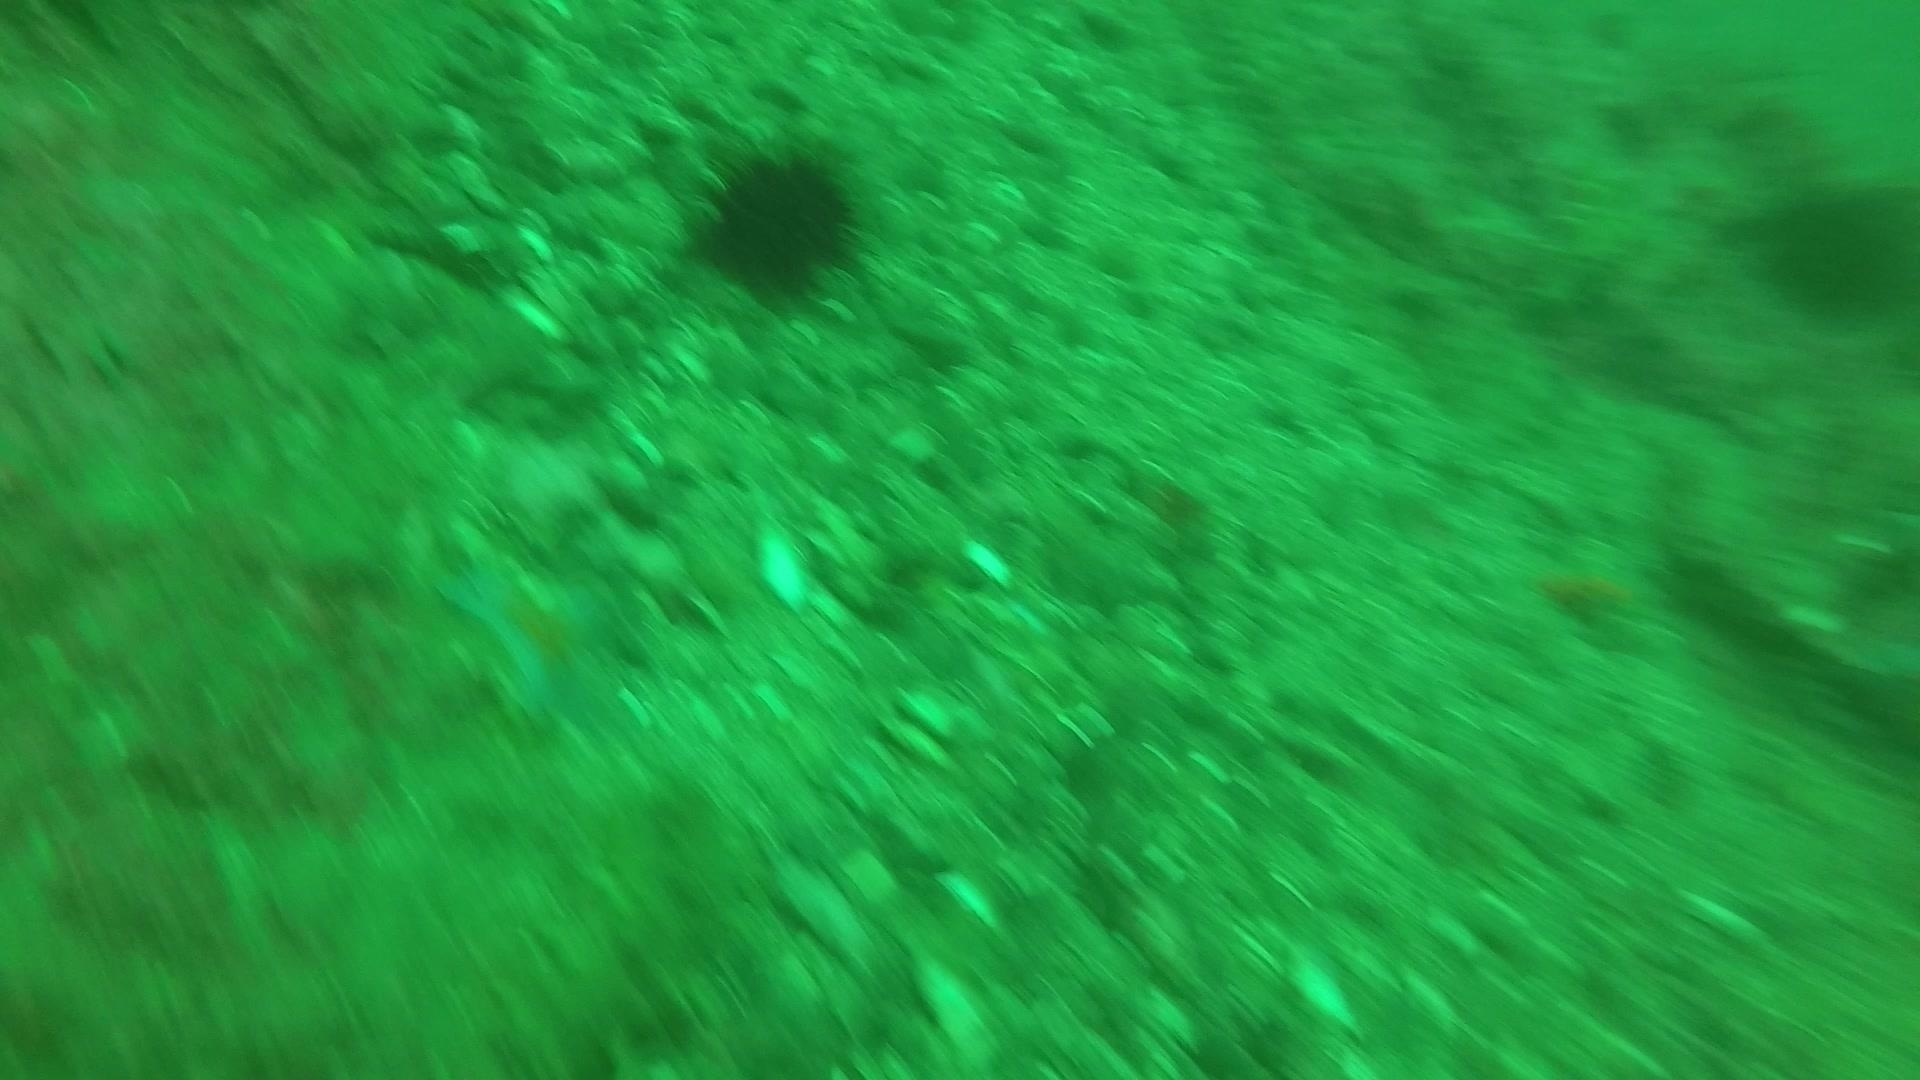echinus: (684, 136, 872, 305), (1753, 179, 1913, 323)
starfish: (431, 538, 628, 731)
